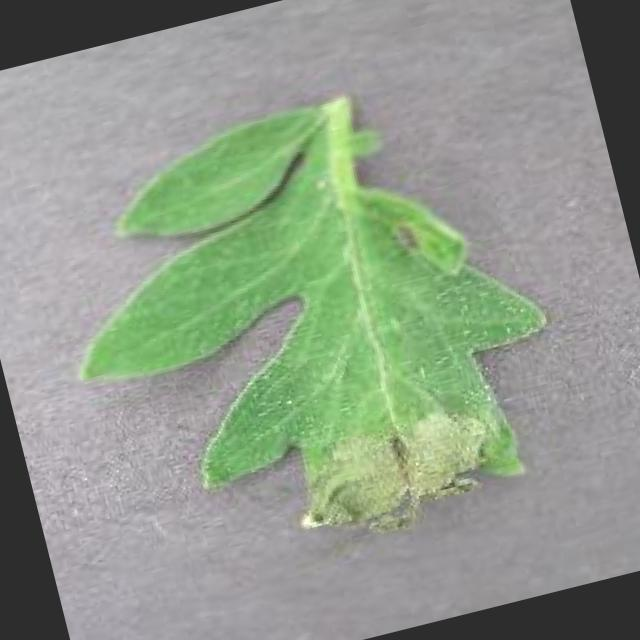leaf blight: (83, 99, 554, 533)
